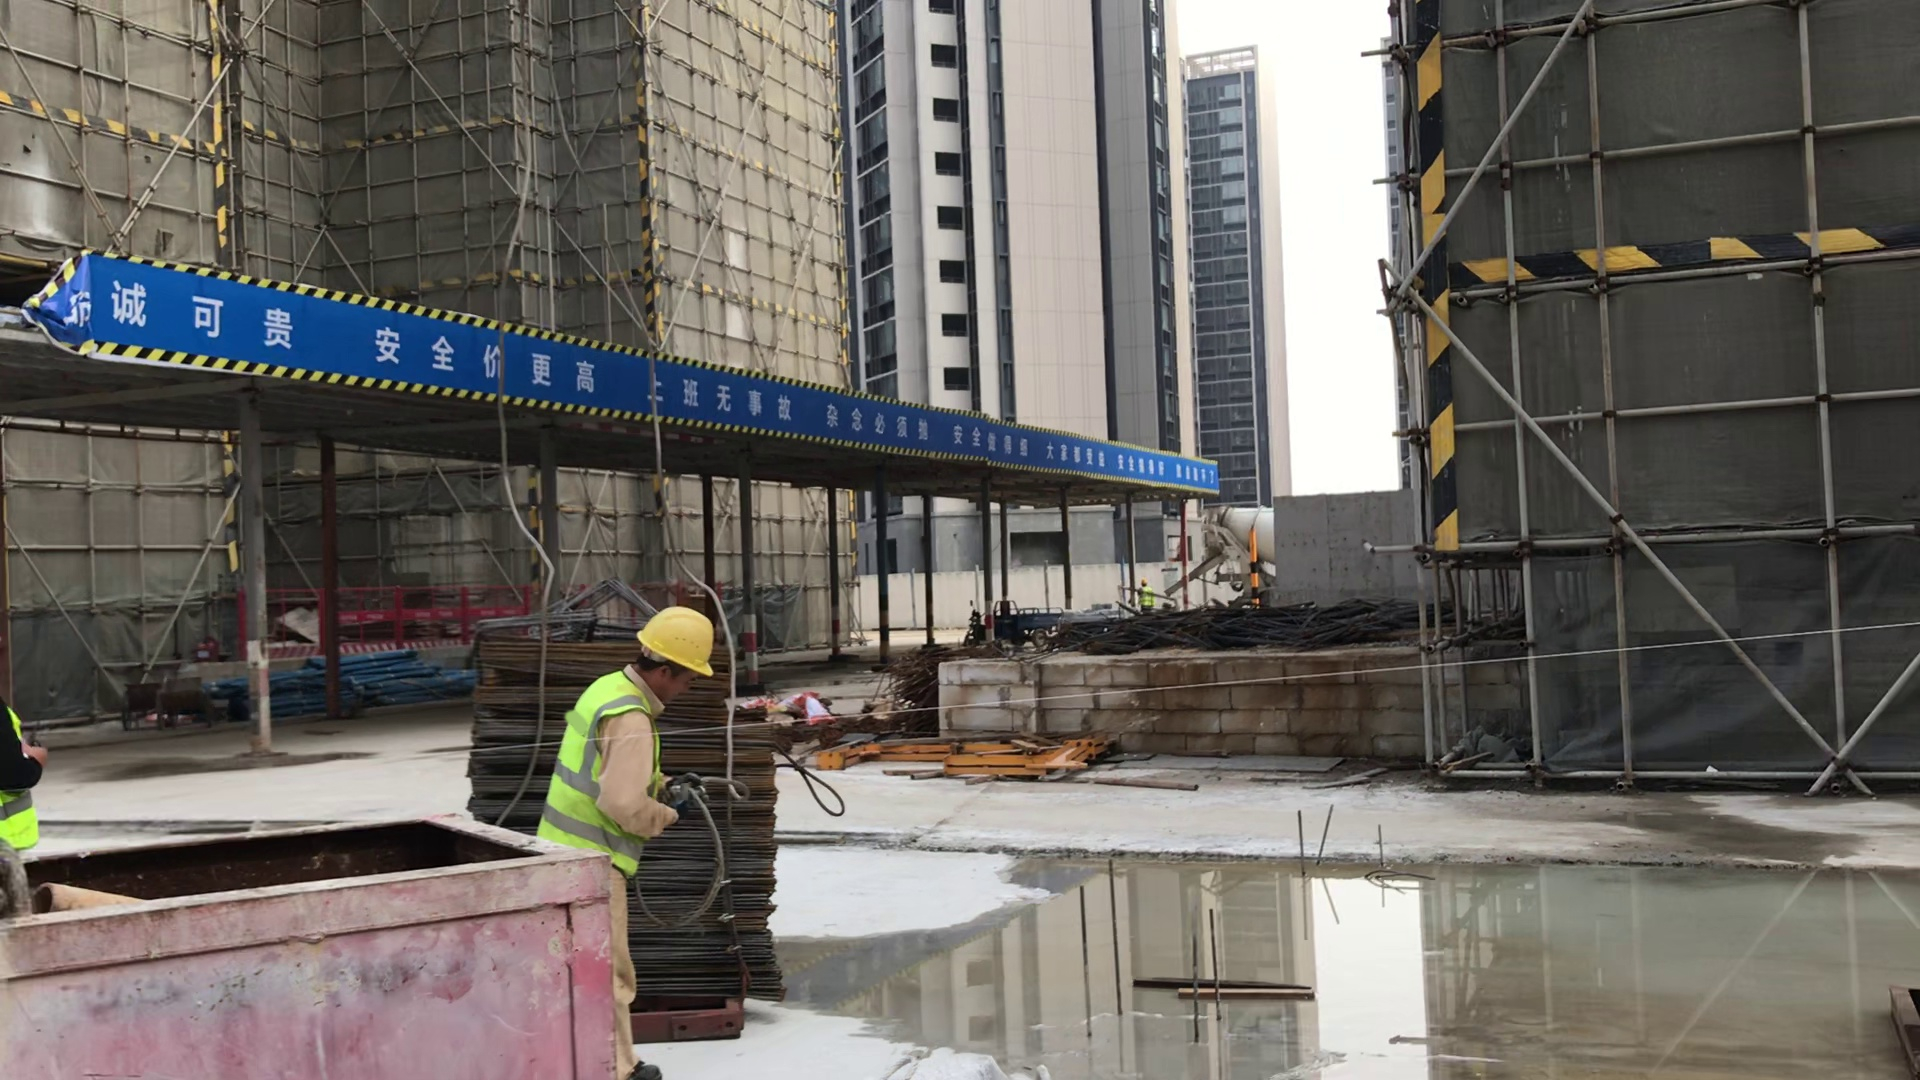handcart: (119, 671, 219, 733)
helmet: (631, 588, 729, 689)
person: (526, 581, 715, 1080)
slogan: (131, 270, 836, 424)
vest: (543, 673, 678, 878)
